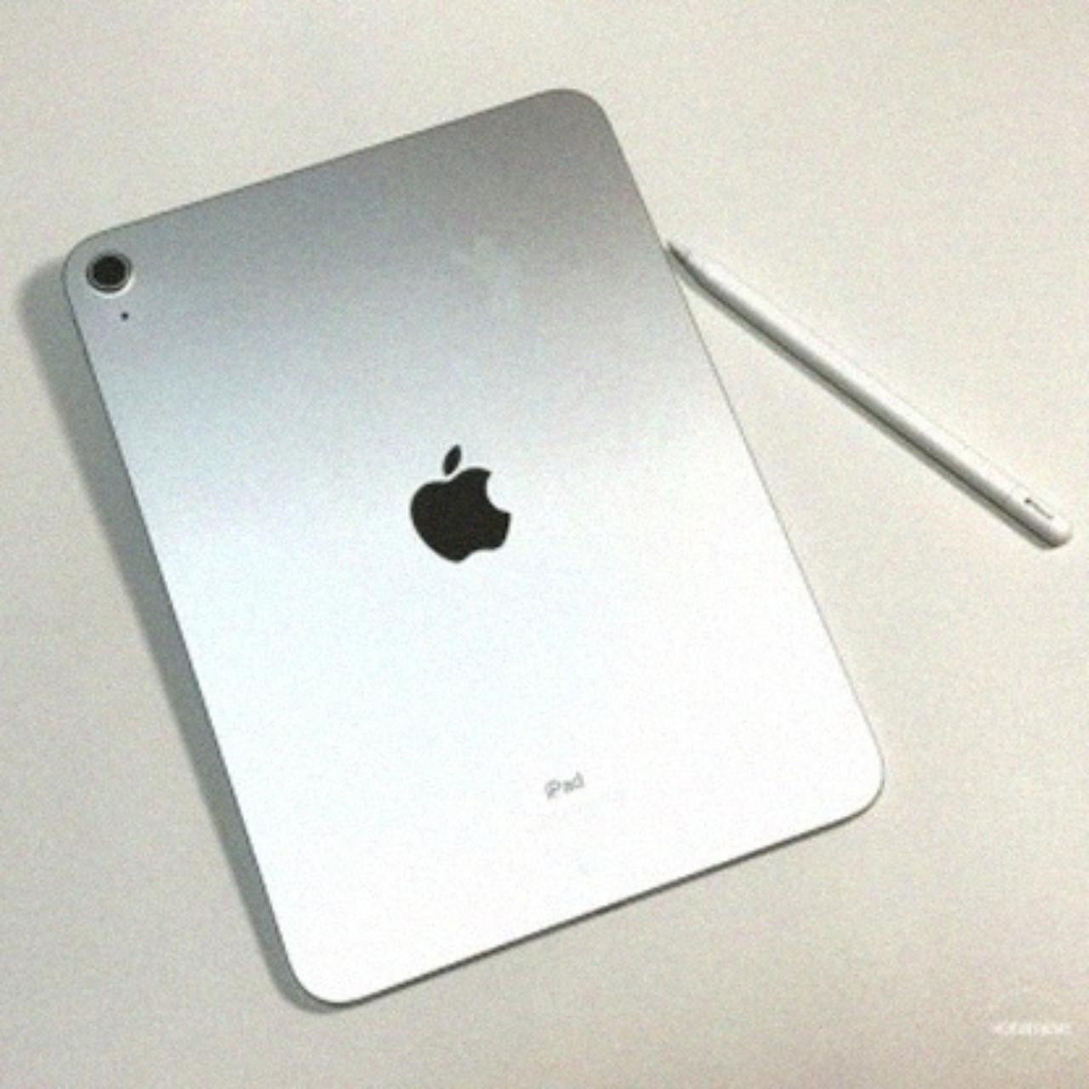Tablet_PC: (44, 79, 905, 1015)
